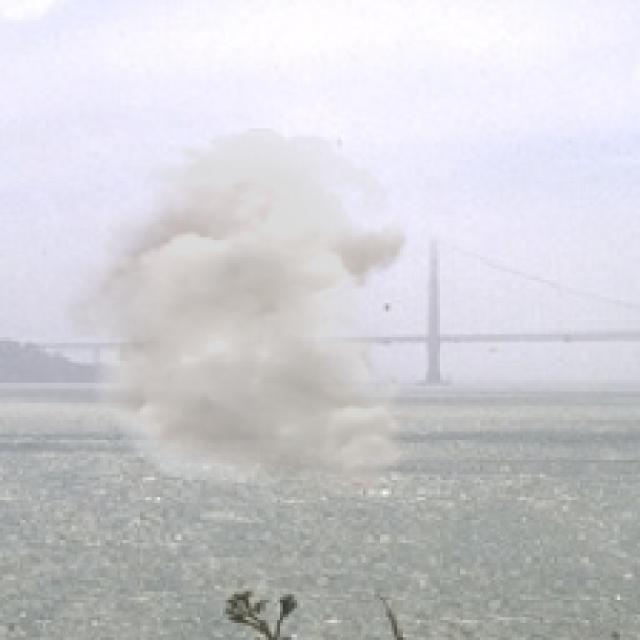Smoke: (43, 128, 420, 500)
